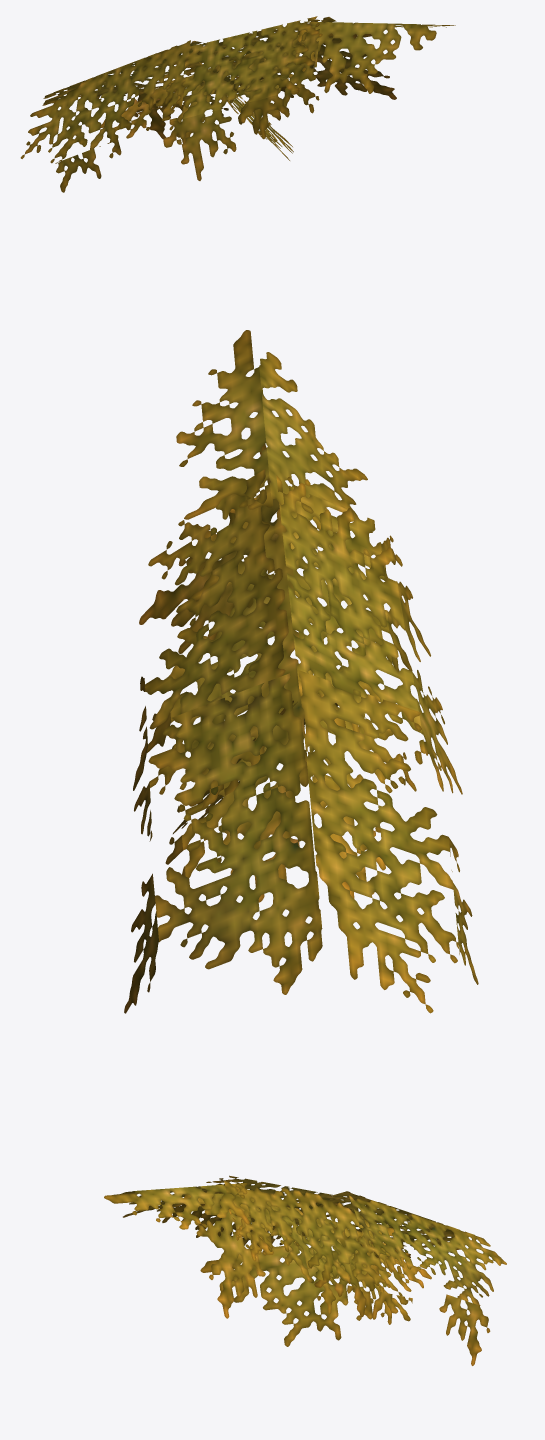
File: larch_leaves_6.obj
3 views of the same model, one above another, from view 1: azimuth 30°, elevation 25°; view 2: azimuth 150°, elevation 25°; view 3: azimuth 270°, elevation 25° (orthographic). The views are drawn at different scales.
Parts seen in each view (by area): view 1: plane, cube; view 2: plane, cube; view 3: plane, cube.
Boxes of the visible parts, x1=… form: plane: x1=20, y1=16, x2=455, y2=192; cube: x1=199, y1=34, x2=396, y2=160; plane: x1=124, y1=330, x2=478, y2=1013; cube: x1=139, y1=444, x2=338, y2=833; plane: x1=104, y1=1175, x2=506, y2=1365; cube: x1=184, y1=1193, x2=379, y2=1346.
Size of the model in its own units: 2.94 by 2.1 by 3.37.
